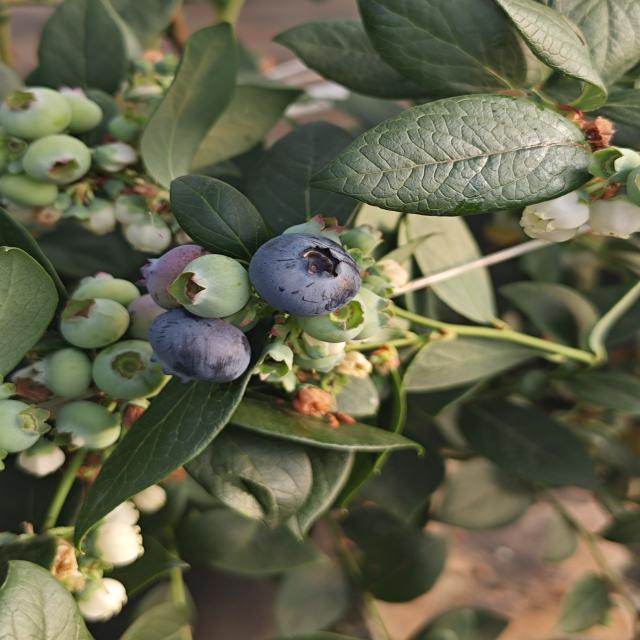ripe: (247, 231, 364, 320), (145, 307, 254, 386), (142, 244, 212, 306)
